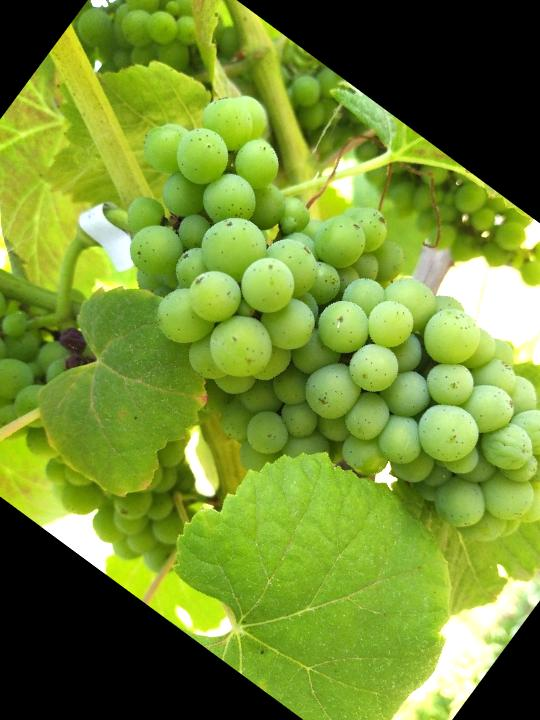grape: (18, 58, 540, 637)
